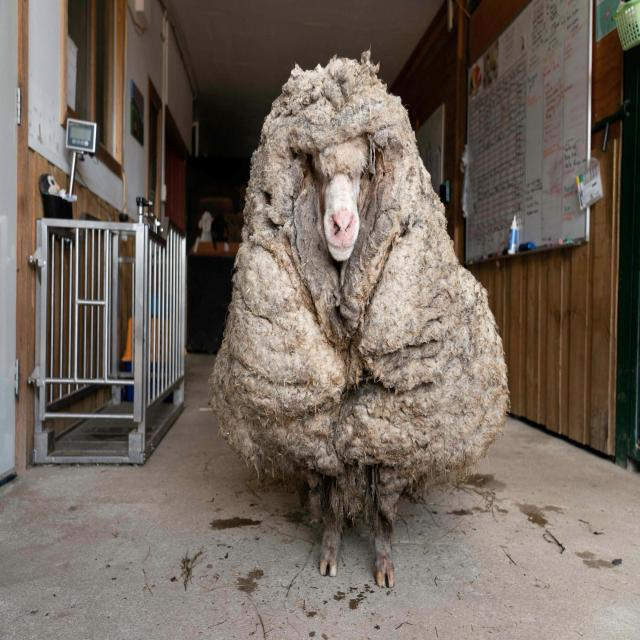sheep: (211, 53, 510, 587)
